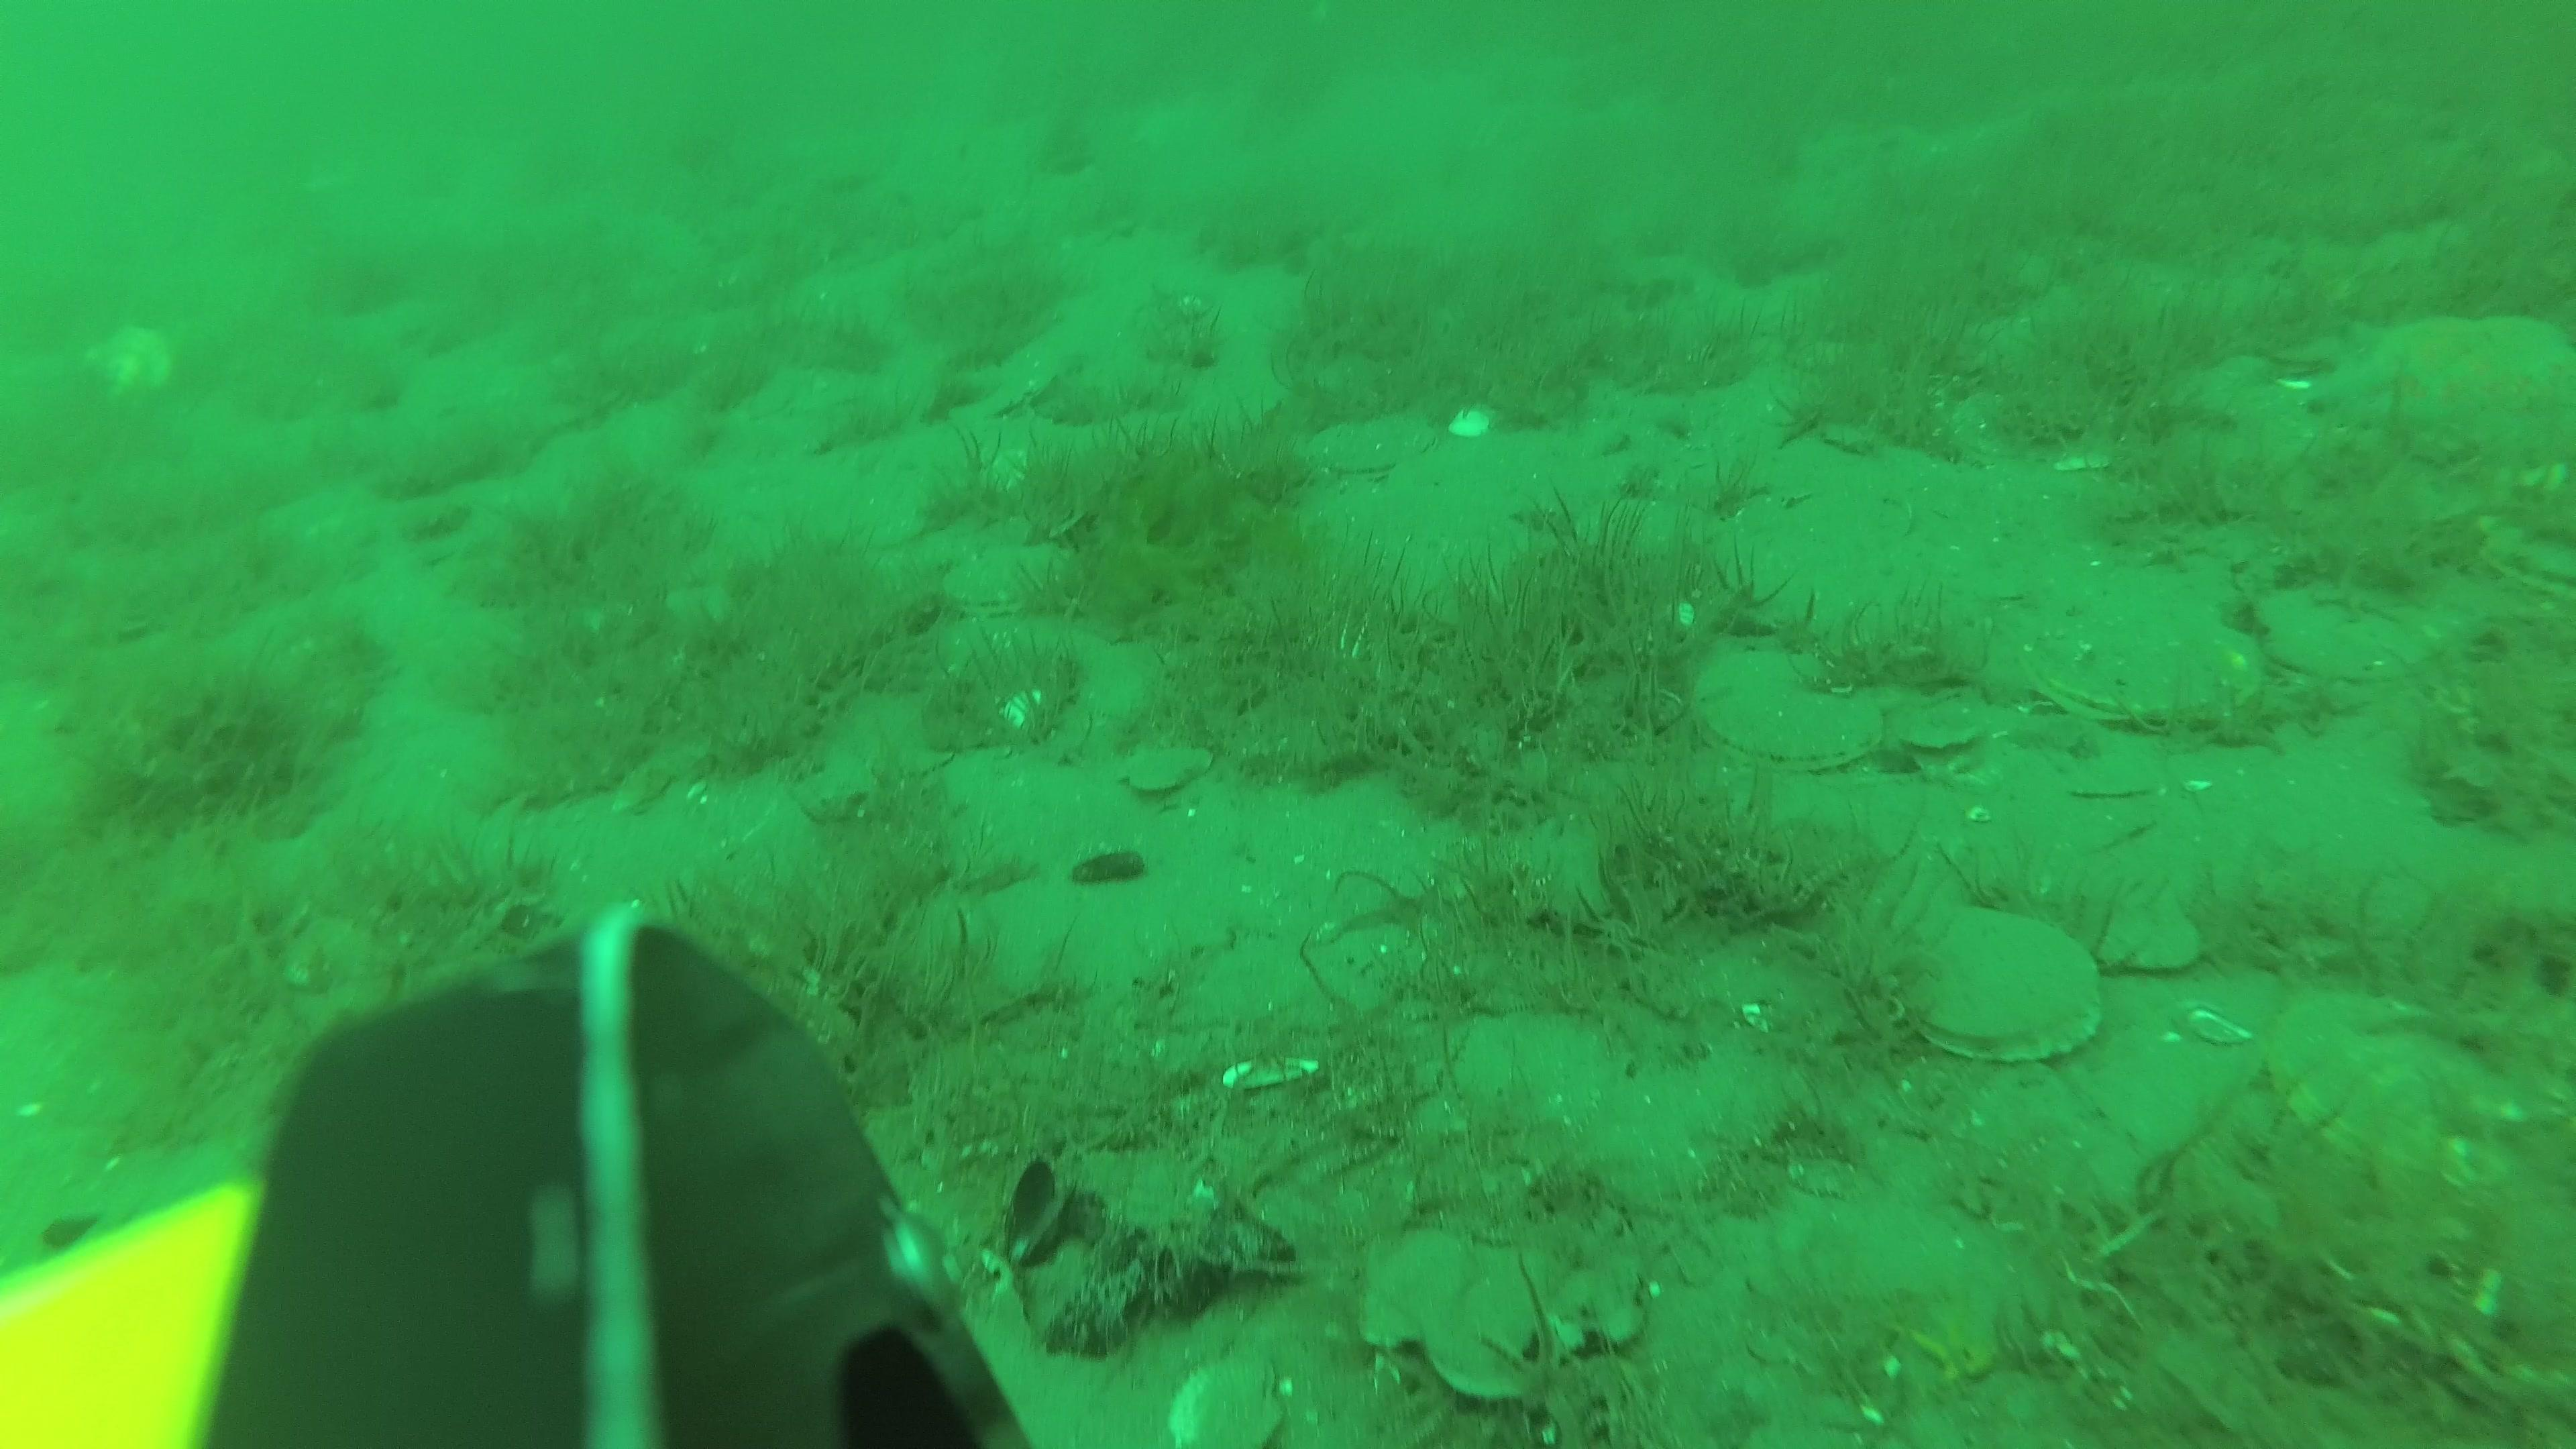scallop: (2270, 993, 2518, 1173), (1877, 913, 2100, 1060), (2028, 607, 2254, 729), (1697, 651, 1888, 771), (2263, 589, 2445, 686), (1164, 1362, 1292, 1449), (943, 545, 1079, 616), (2102, 901, 2204, 980), (1315, 416, 1435, 479), (80, 322, 173, 400), (2484, 525, 2576, 598), (1905, 699, 1989, 773)
starfish: (2316, 315, 2576, 435), (1118, 741, 1215, 794)
